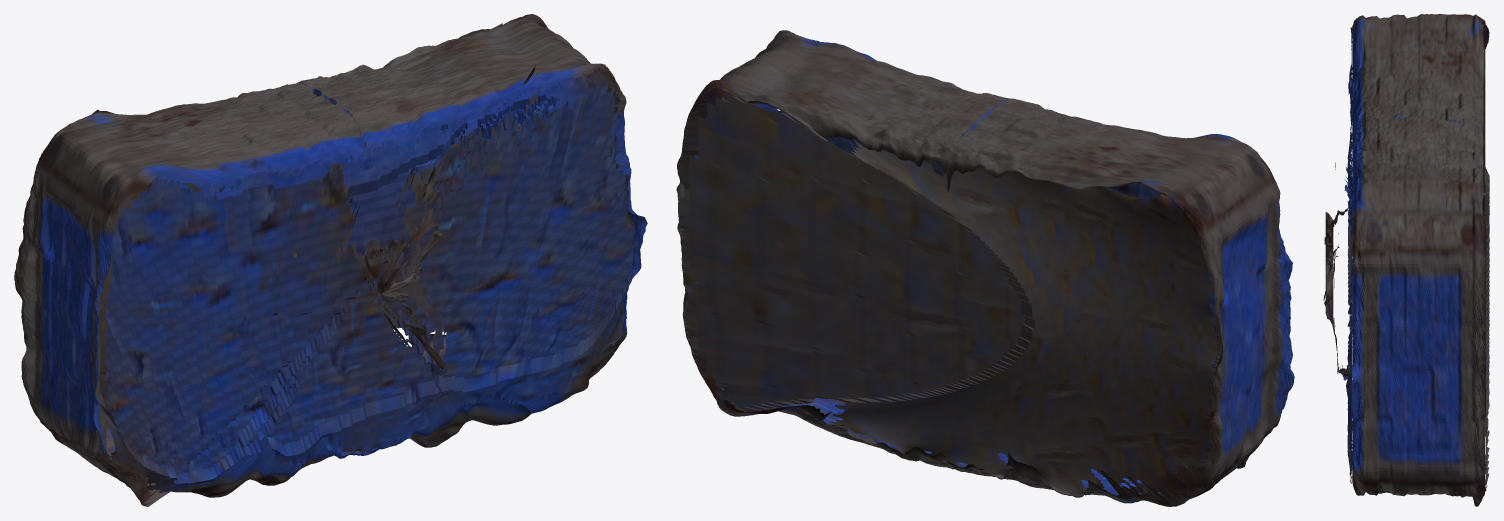
The model's file is snap12_mesh.glb.
3 renders of one model, left to right at view 1: azimuth 30°, elevation 25°; view 2: azimuth 150°, elevation 25°; view 3: azimuth 270°, elevation 25°, orthographic. The views are drawn at different scales.
Visible parts, largest first — view 1: fill, ipn; view 2: fill, ipn; view 3: ipn, fill.
Part boxes in pixels (x1,y1,x2,y2): fill: (21,23,634,492); ipn: (14,14,647,506); fill: (677,33,1220,498); ipn: (676,30,1294,506); ipn: (1324,14,1485,506); fill: (1323,23,1489,490).
Bounding box in the file's own units: 1.95 × 1.25 × 0.5728.
Materials: 2 (1 with a texture image).
